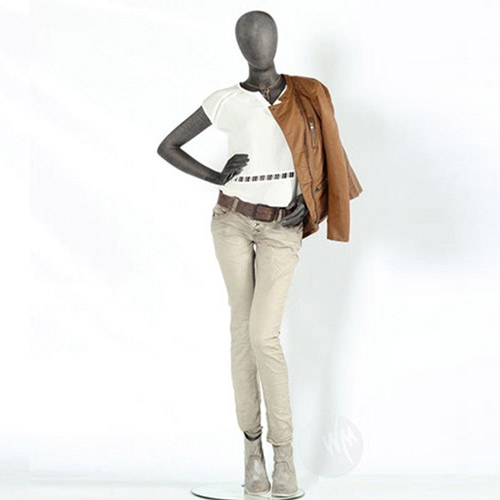person-like: (153, 3, 364, 500)
